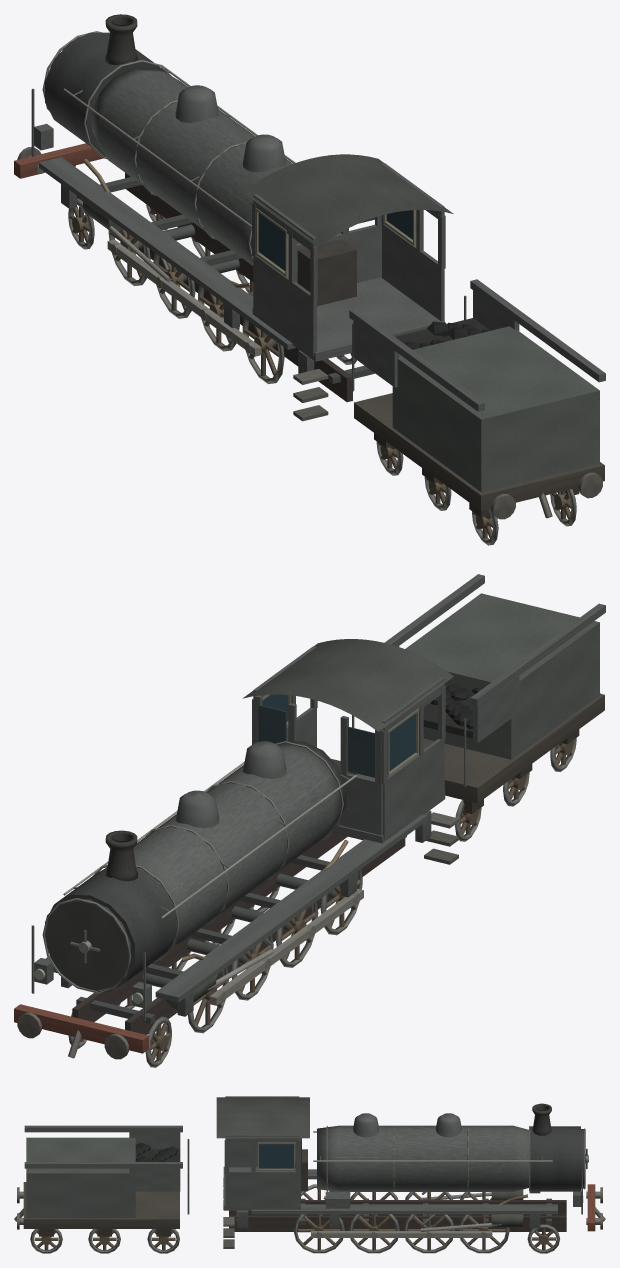
Rendered from m01_locomotive_freight_lod1.glb.
3 renders of one model, top to bottom at view 1: azimuth 30°, elevation 25°; view 2: azimuth 150°, elevation 25°; view 3: azimuth 270°, elevation 25°, orthographic. The views are drawn at different scales.
Parts seen in each view (by area): view 1: paint_and_soot, exposed_metal, glazed_windows; view 2: paint_and_soot, exposed_metal, glazed_windows; view 3: paint_and_soot, exposed_metal, glazed_windows.
Part boxes in pixels (x1,y1,x2,y2): paint_and_soot: (14, 14, 605, 538); exposed_metal: (28, 31, 576, 545); glazed_windows: (258, 210, 412, 270); paint_and_soot: (14, 574, 605, 1060); exposed_metal: (31, 694, 576, 1067); glazed_windows: (34, 694, 415, 1003); paint_and_soot: (17, 1096, 602, 1250); exposed_metal: (14, 1128, 605, 1253); glazed_windows: (259, 1138, 583, 1202).
Bounding box in the file's own units: 3.16 × 4.21 × 16.82.
3 materials, 2 textured.
